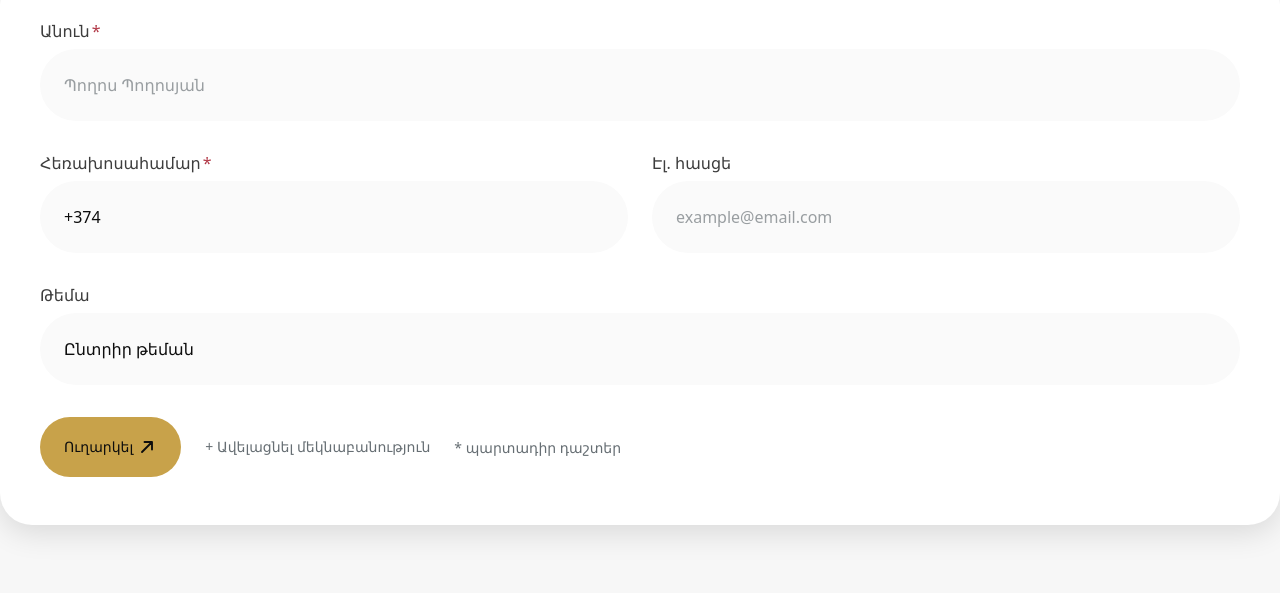
Test case: ContactForm — required name & phone › shows a failure message (not success) when the request fails outright
The image size is (1280, 593).
Step 1. Type "Anna" into the field labelled "Անուն*" → point(640, 85), box [40,49,1240,121]
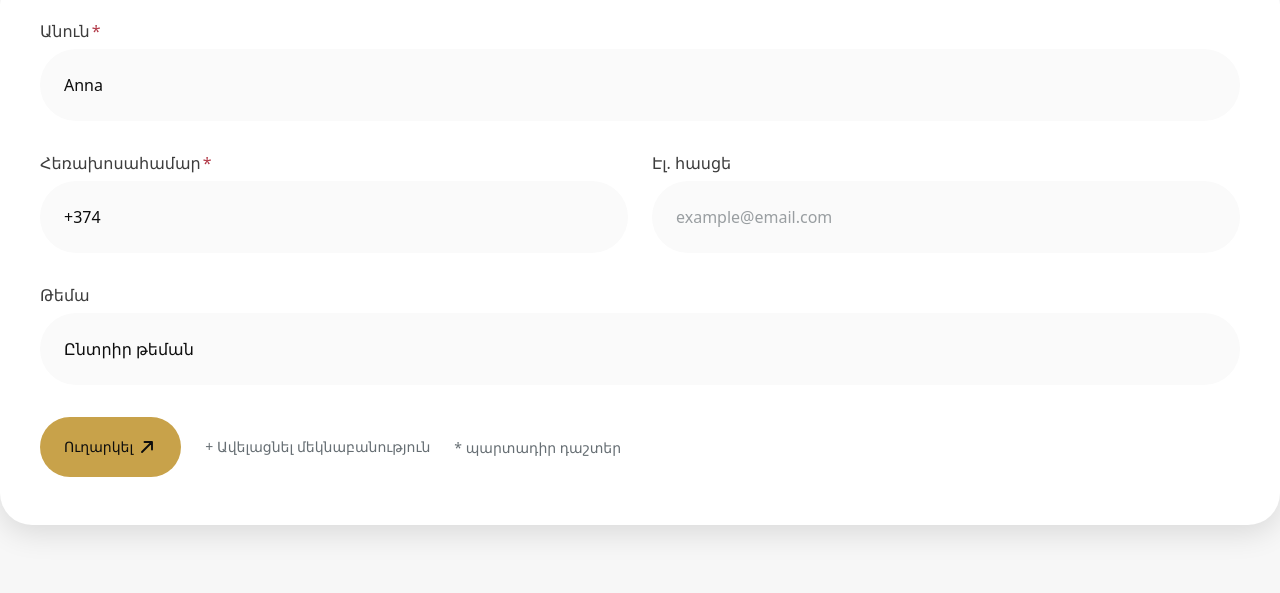
Step 2. Replace the text in the field labelled "Հեռախոսահամար*" with "77123456" → point(334, 217), box [40,181,628,253]
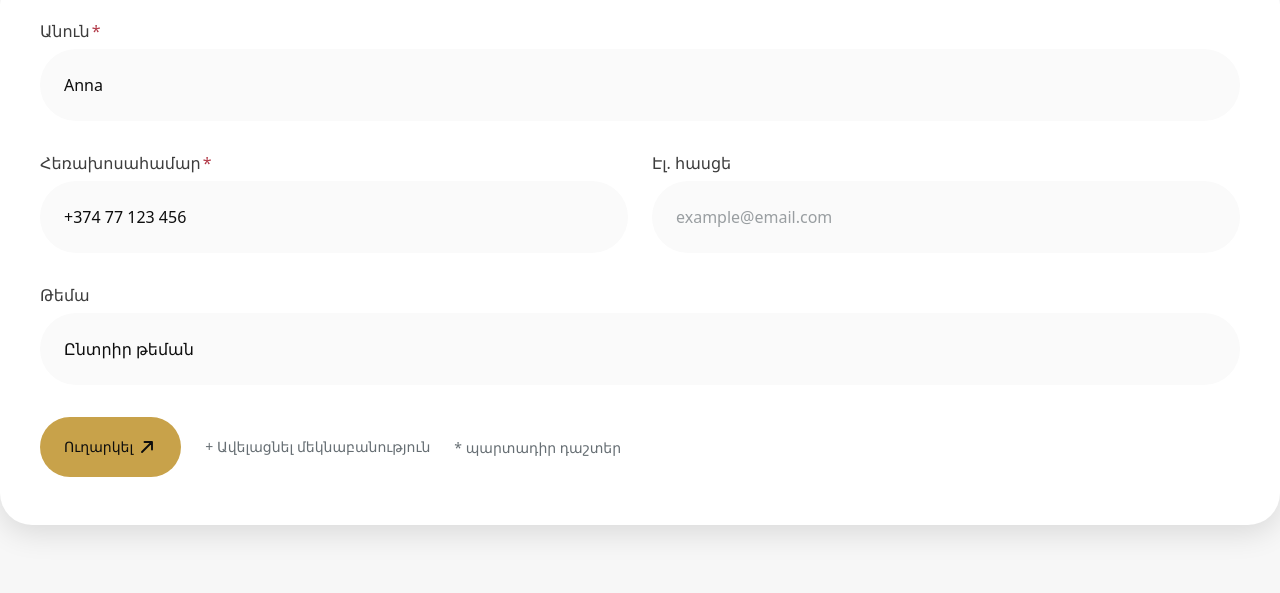
Step 3. Click the button "Ուղարկել" → point(111, 447), box [40,417,181,477]
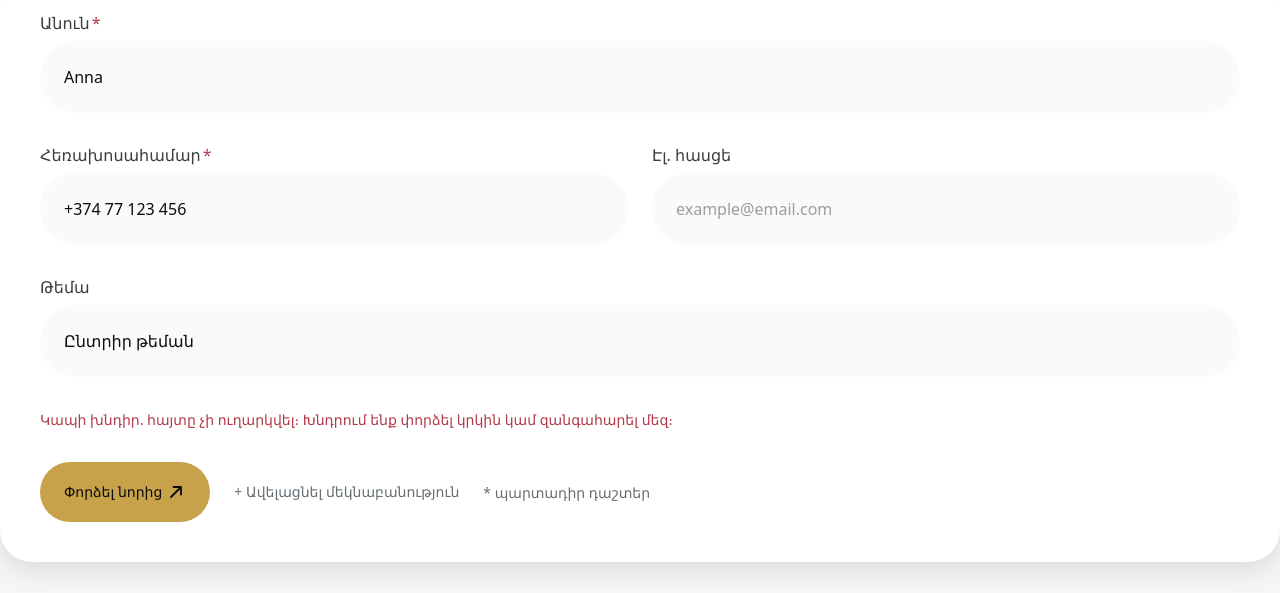
Check: the text "Կապի խնդիր. հայտը չի ուղարկվել։ Խնդրում ենք փորձել կրկին կամ զանգահարել մեզ։" is shown, box [40,410,673,429]
